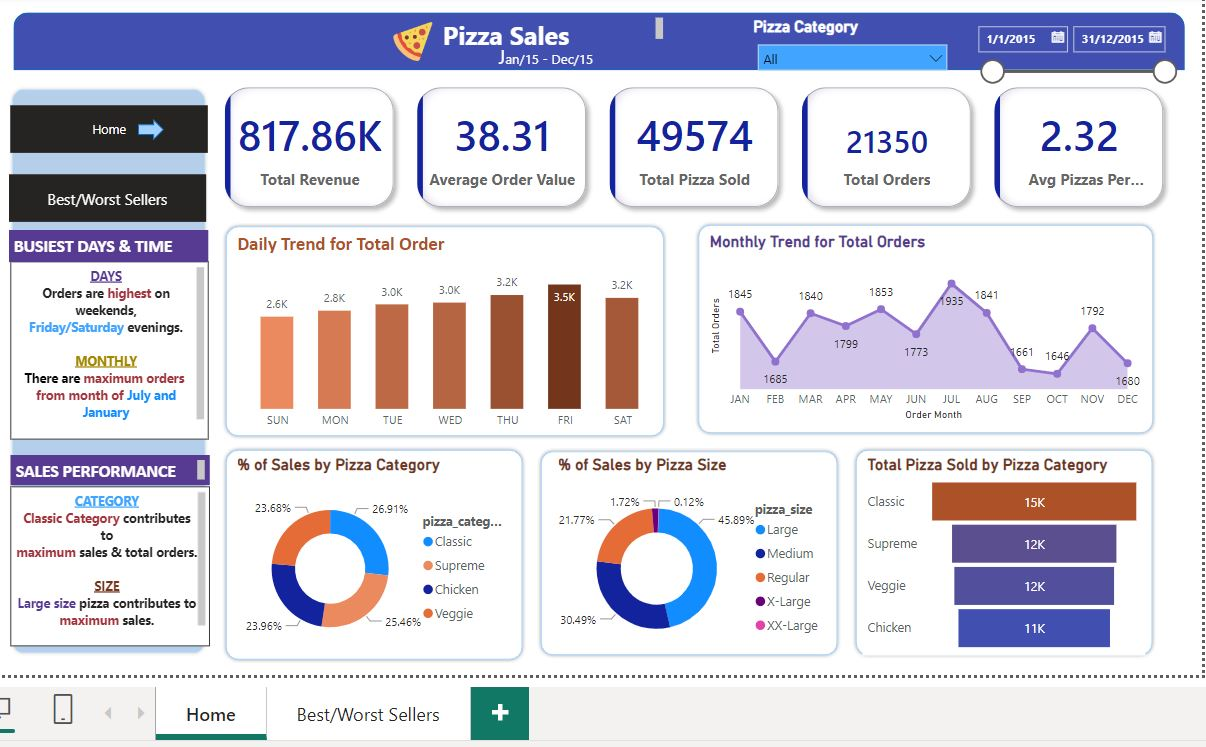

The dashboard page shown, as its layout file describes it:
{"tool":"powerbi","page":{"name":"Home","canvas":[1280,720],"ordinal":0},"visuals":[{"type":"cardVisual","fields":{"Data":["pizza_sales.Total Revenue","pizza_sales.Average Order Value","pizza_sales.Total Pizza Sold","pizza_sales.Total Orders","pizza_sales.Avg Pizzas Per Order"]},"box":[227.4,79,1030.6,161.3],"z":0},{"type":"shape","box":[21,17.7,1241.9,61.3],"z":1000},{"type":"textbox","box":[471,17.7,243.5,50],"z":2000},{"type":"textbox","box":[529,43.5,185.5,50],"z":3000},{"type":"image","box":[408.1,22.6,71,51.6],"z":4000},{"type":"shape","box":[241.9,240.3,472.6,230.6],"z":5000},{"type":"columnChart","title":"Daily Trend for Total Order","fields":{"Category":["pizza_sales.Order Day"],"Y":["pizza_sales.Total Orders"]},"box":[253.2,250,461.3,217.7],"z":6000},{"type":"shape","box":[743.5,238.7,490.3,229],"z":7000},{"type":"areaChart","title":"Monthly Trend for Total Orders","fields":{"Y":["pizza_sales.Total Orders"],"Category":["pizza_sales.Order Month"]},"box":[753.2,250,467.7,204.8],"z":8000},{"type":"shape","box":[241.9,477.4,322.6,230.6],"z":9000},{"type":"shape","box":[575.8,479,322.6,224.2],"z":10000},{"type":"shape","box":[909.7,477.4,322.6,225.8],"z":11000},{"type":"donutChart","title":"% of Sales by Pizza Category","fields":{"Category":["pizza_sales.pizza_category"],"Y":["pizza_sales.Total Revenue"]},"box":[253.2,487.1,298.4,221],"z":12000},{"type":"donutChart","title":"% of Sales by Pizza Size","fields":{"Category":["pizza_sales.pizza_size"],"Y":["pizza_sales.Total Revenue"]},"box":[593.5,487.1,298.4,221],"z":13000},{"type":"funnel","title":"Total Pizza Sold by Pizza Category","fields":{"Y":["pizza_sales.Total Pizza Sold"],"Category":["pizza_sales.pizza_category"]},"box":[921,487.1,300,212.9],"z":14000},{"type":"shape","box":[16.1,95.2,211.3,604.8],"z":16000},{"type":"textbox","box":[17.7,487.1,211.3,32.3],"z":17000},{"type":"textbox","box":[17.7,282.3,209.7,188.7],"z":17001},{"type":"textbox","box":[16.1,248.4,211.3,33.9],"z":17002},{"type":"textbox","box":[17.7,519.4,211.3,169.4],"z":17003},{"type":"slicer","title":"Pizza Category","fields":{"Values":["pizza_sales.pizza_category"]},"box":[800,22.6,221,143.5],"z":17004},{"type":"slicer","title":"Pizza Category","fields":{"Values":["pizza_sales.order_date"]},"box":[1030.6,22.6,232.3,71],"z":17005},{"type":"pageNavigator","box":[17.7,116.1,209.7,50],"z":17006},{"type":"pageNavigator","box":[16.1,188.7,209.7,50],"z":17007},{"type":"shape","box":[153.2,130.6,27.4,22.6],"z":17008}]}

Visuals, with their boxes on the page's 1280x720 design canvas (x1, y1, x2, y2). These are canvas units, not pixel positions in the 1206x747 screenshot, which may show the page scaled, cropped or inside an application window:
cardVisual - pizza_sales.Total Revenue x pizza_sales.Average Order Value: x1=227 y1=79 x2=1258 y2=240
shape: x1=21 y1=18 x2=1263 y2=79
textbox: x1=471 y1=18 x2=714 y2=68
textbox: x1=529 y1=44 x2=714 y2=94
image: x1=408 y1=23 x2=479 y2=74
shape: x1=242 y1=240 x2=714 y2=471
"Daily Trend for Total Order" columnChart: x1=253 y1=250 x2=714 y2=468
shape: x1=744 y1=239 x2=1234 y2=468
"Monthly Trend for Total Orders" areaChart: x1=753 y1=250 x2=1221 y2=455
shape: x1=242 y1=477 x2=564 y2=708
shape: x1=576 y1=479 x2=898 y2=703
shape: x1=910 y1=477 x2=1232 y2=703
"% of Sales by Pizza Category" donutChart: x1=253 y1=487 x2=552 y2=708
"% of Sales by Pizza Size" donutChart: x1=594 y1=487 x2=892 y2=708
"Total Pizza Sold by Pizza Category" funnel: x1=921 y1=487 x2=1221 y2=700
shape: x1=16 y1=95 x2=227 y2=700
textbox: x1=18 y1=487 x2=229 y2=519
textbox: x1=18 y1=282 x2=227 y2=471
textbox: x1=16 y1=248 x2=227 y2=282
textbox: x1=18 y1=519 x2=229 y2=689
"Pizza Category" slicer: x1=800 y1=23 x2=1021 y2=166
"Pizza Category" slicer: x1=1031 y1=23 x2=1263 y2=94
pageNavigator: x1=18 y1=116 x2=227 y2=166
pageNavigator: x1=16 y1=189 x2=226 y2=239
shape: x1=153 y1=131 x2=181 y2=153
